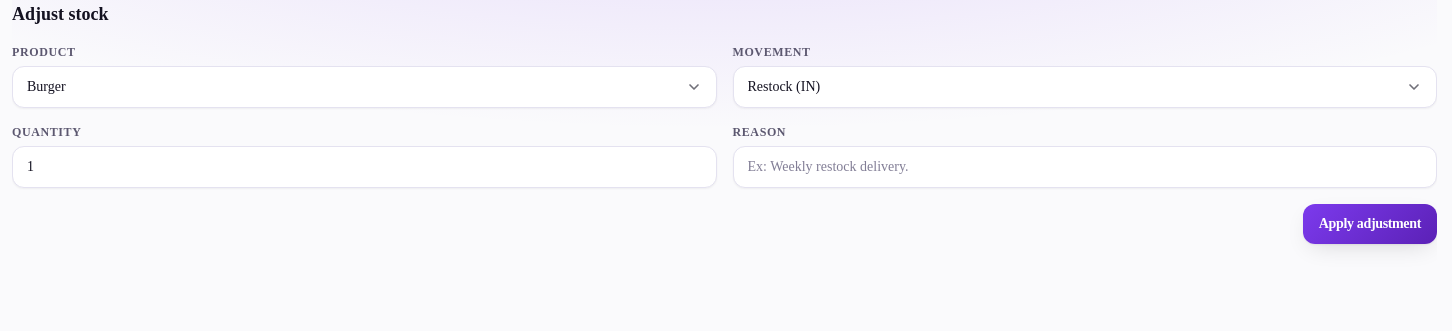
it: AdjustStockForm › maps inventory_over_max to its message
Step 1. Type "x" into the field labelled "Reason" → (1085, 167), box [732, 146, 1437, 188]
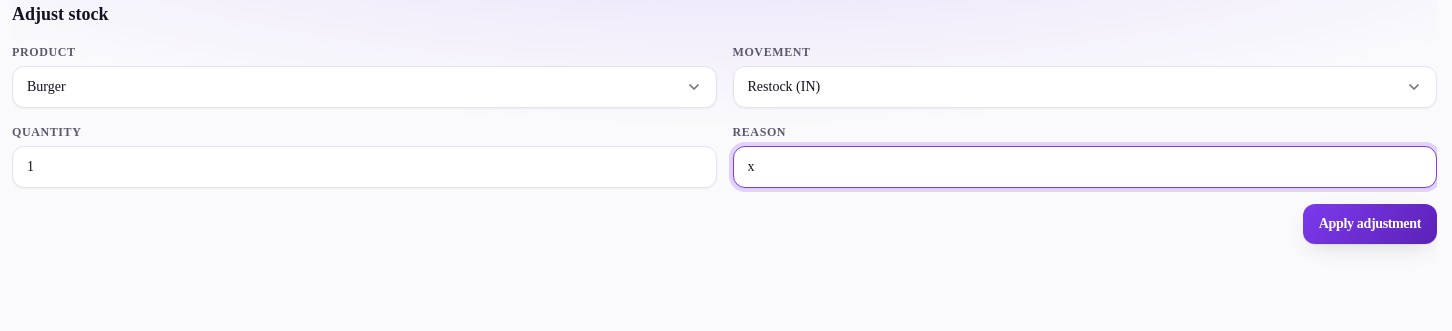
Step 2. Click the button "Apply adjustment" → (1370, 224), box [1303, 204, 1437, 244]
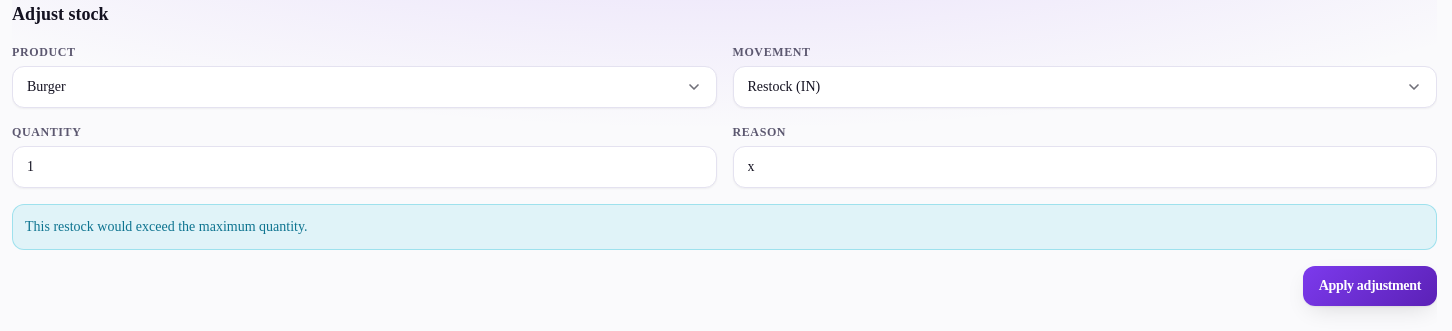
Check: the message shows "exceed the maximum", box [25, 219, 308, 234]
